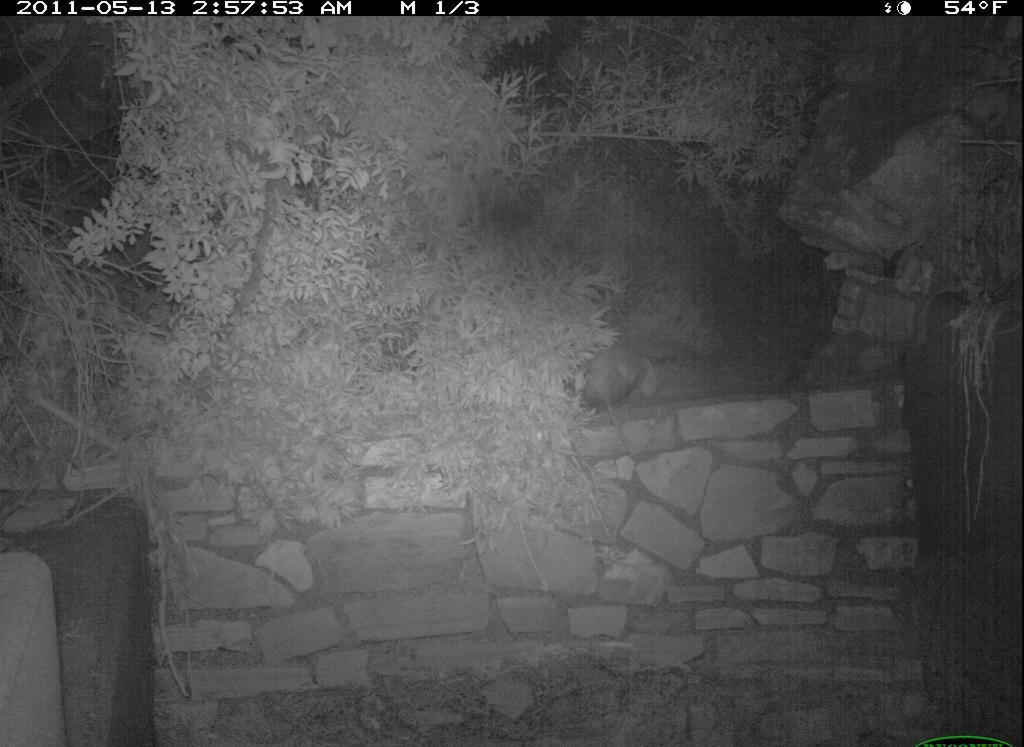opossum: (530, 321, 683, 446)
